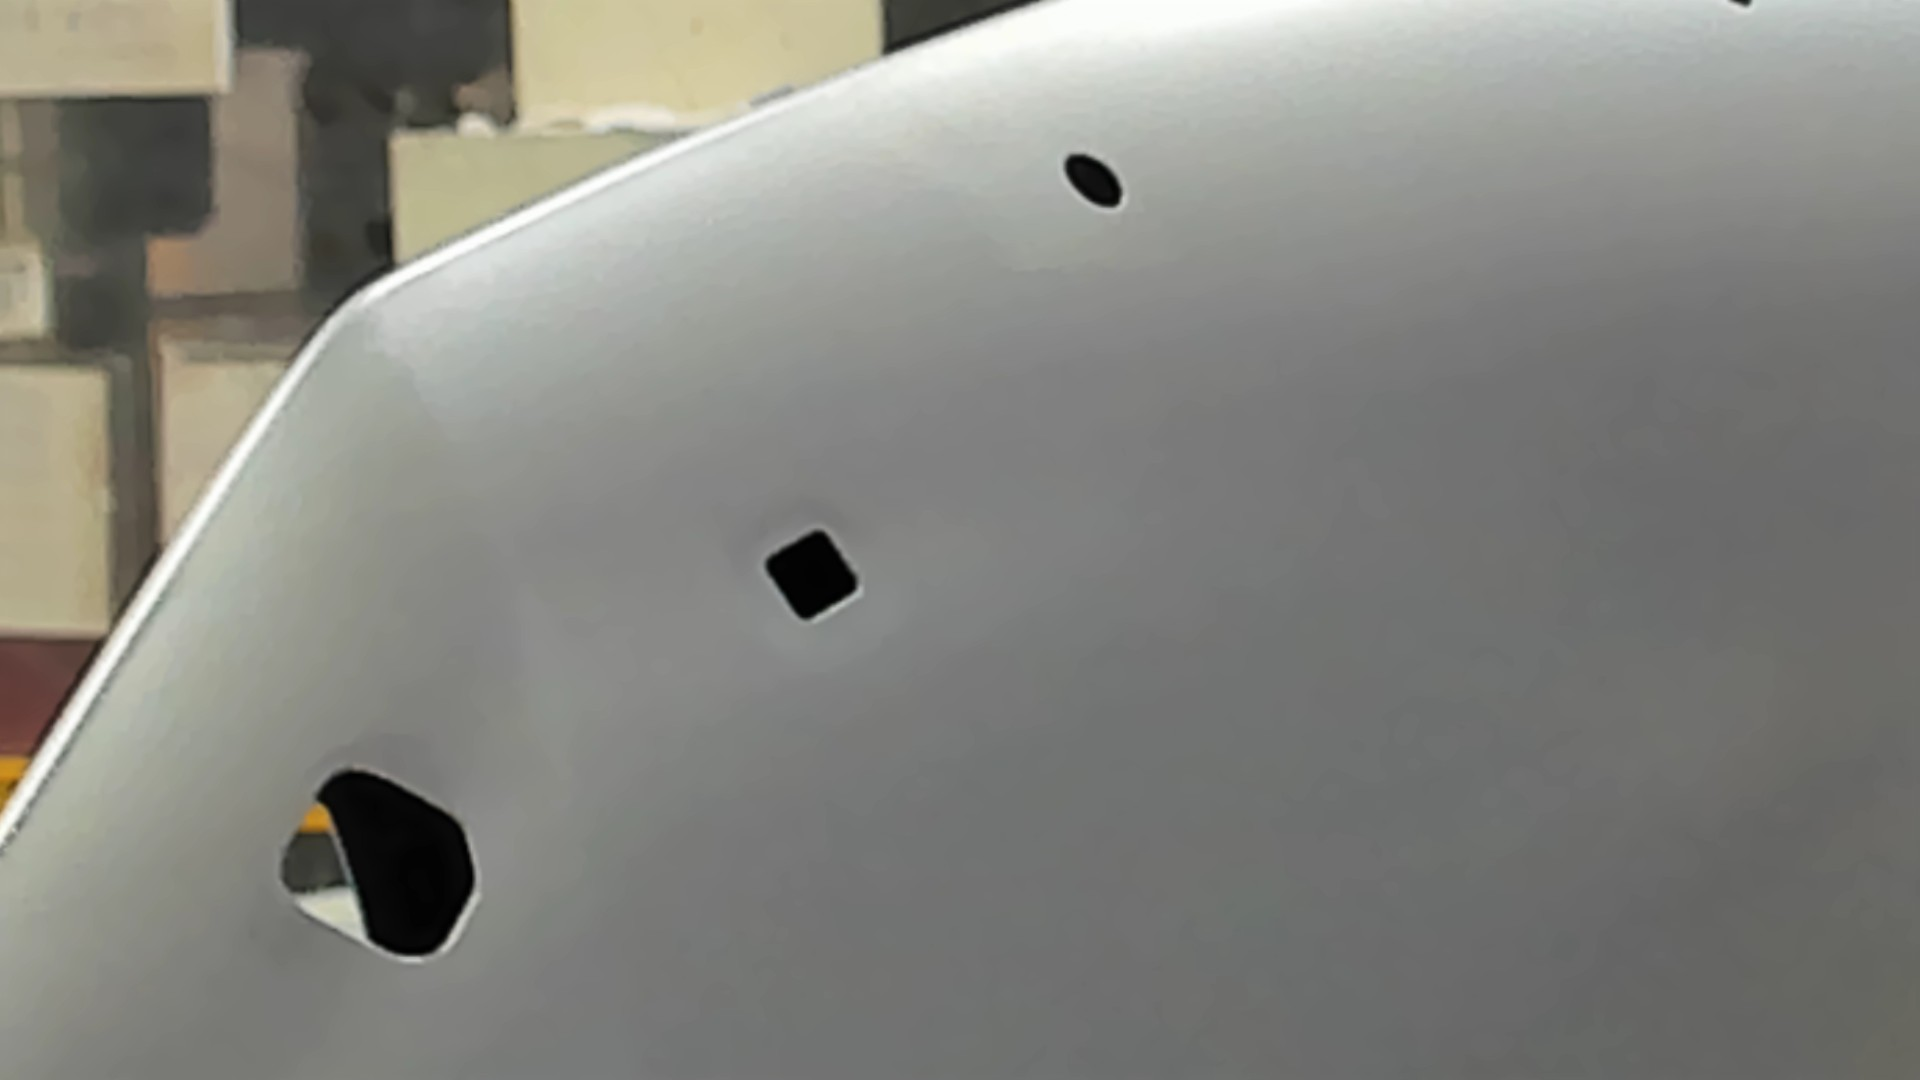chico: (1063, 152, 1124, 210)
grande: (276, 765, 483, 968)
mediano: (761, 522, 864, 626)
